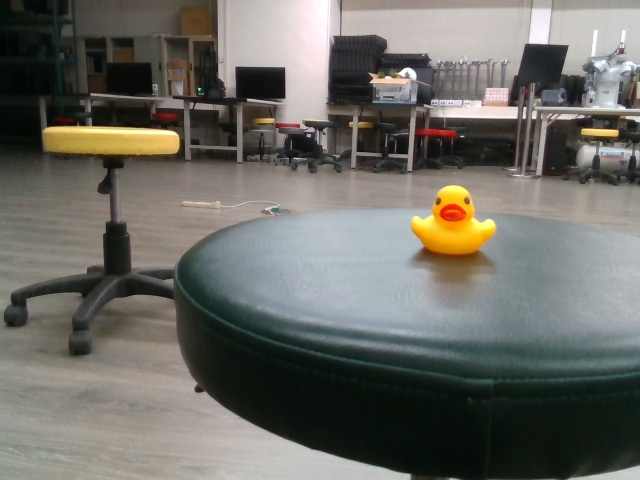duck: (405, 180, 500, 261)
